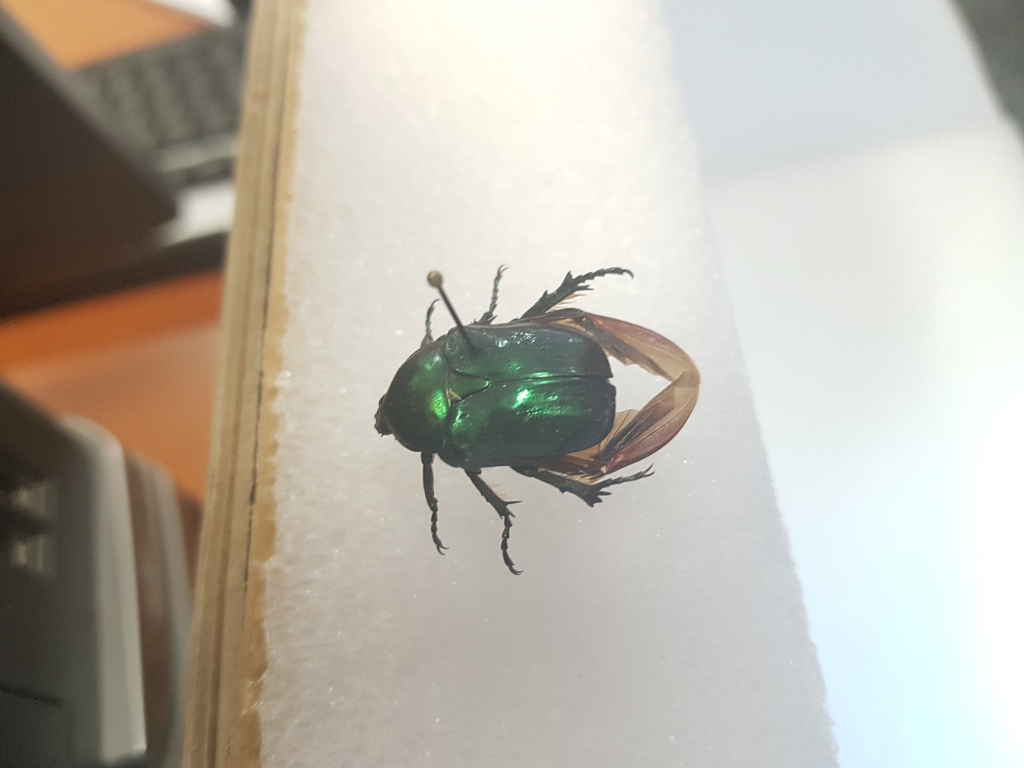Protaetia_angustata_angustata: (368, 244, 713, 574)
